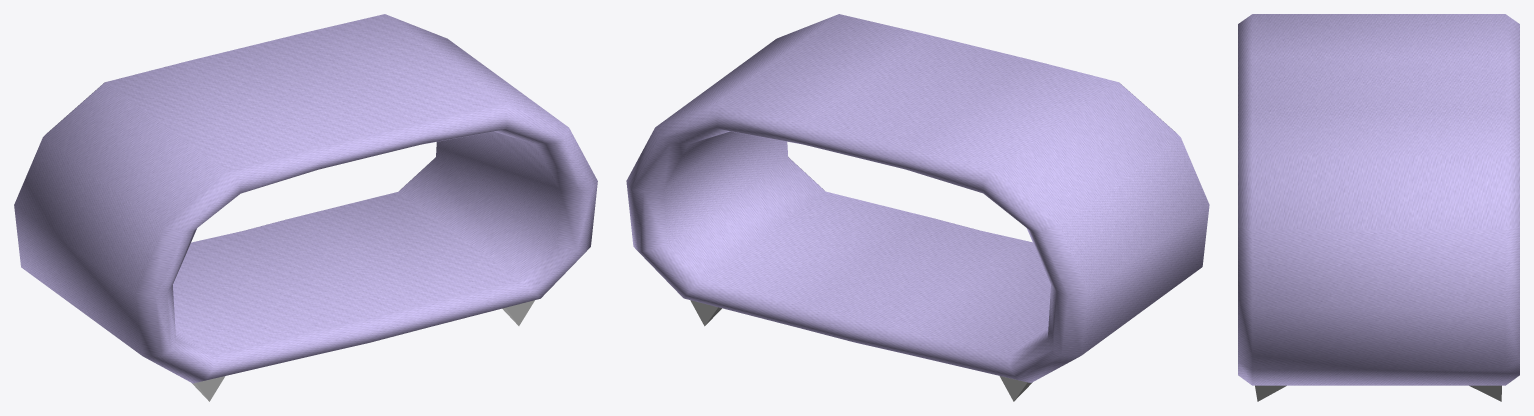
The model's file is Open_Stool_A_2.FBX.
The picture shows the model from 3 angles, left to right: view 1: azimuth 30°, elevation 25°; view 2: azimuth 150°, elevation 25°; view 3: azimuth 270°, elevation 25°; orthographic projection. The views are drawn at different scales.
Visible parts, largest first — view 1: Stool_01; view 2: Stool_01; view 3: Stool_01.
Part boxes in pixels (x1=…): Stool_01: x1=14, y1=14, x2=597, y2=401; Stool_01: x1=626, y1=14, x2=1209, y2=401; Stool_01: x1=1238, y1=14, x2=1519, y2=401.
Bounding box in the file's own units: 172 × 81.63 × 87.07.
